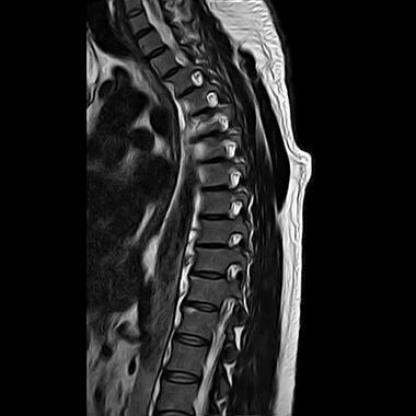Disc Protrusionrotation: (178, 88, 220, 115), (190, 126, 230, 143)
